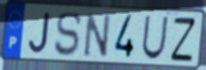4: (113, 13, 136, 61)
J: (28, 11, 52, 55)
N: (83, 11, 112, 59)
S: (53, 10, 83, 58)
U: (140, 15, 170, 62)
Z: (170, 16, 198, 63)
